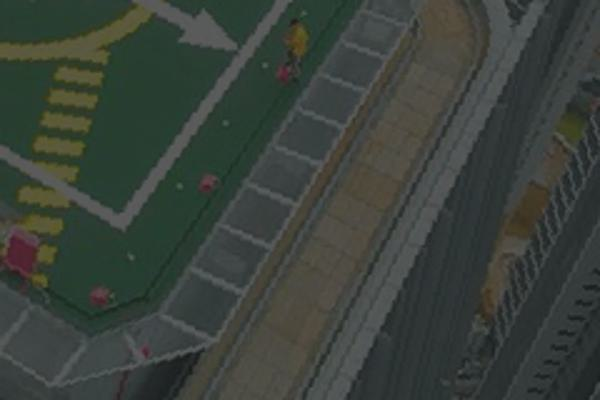Apron: (1, 1, 173, 63)
